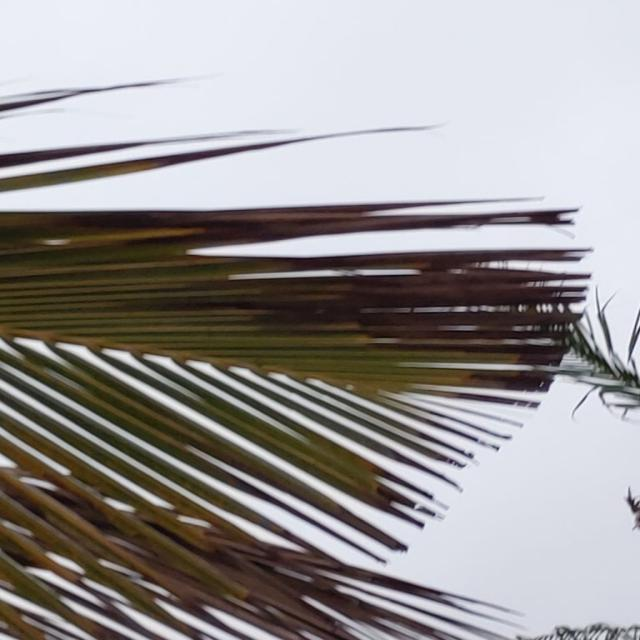leaf rot: (147, 173, 593, 391)
